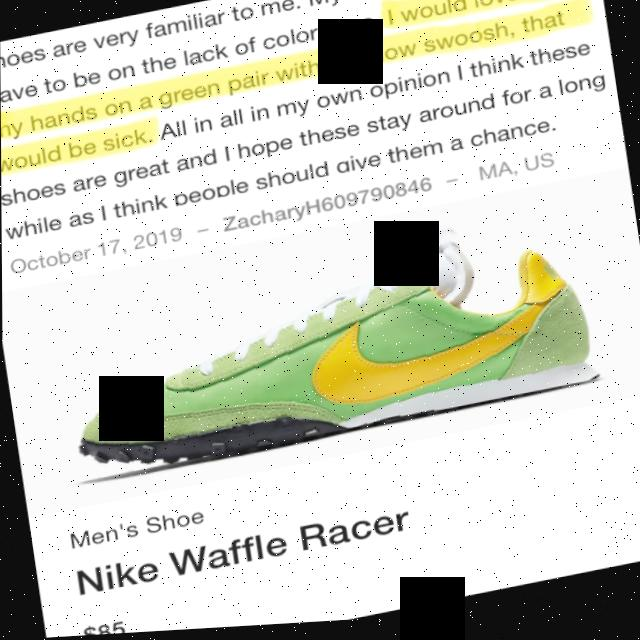shoe: (20, 189, 640, 490)
